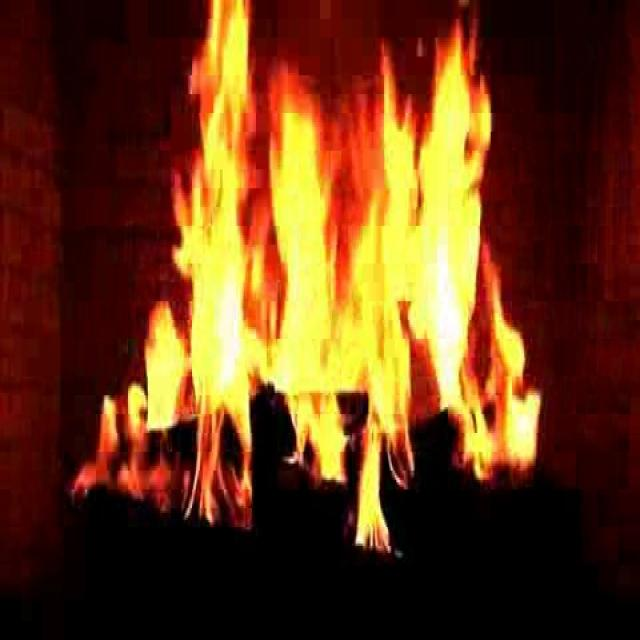fire: (149, 6, 523, 542)
